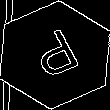P_SE: (24, 24, 86, 86)
